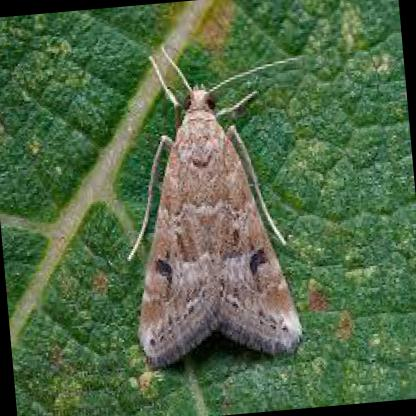Hellula undalis: (125, 35, 316, 375)
